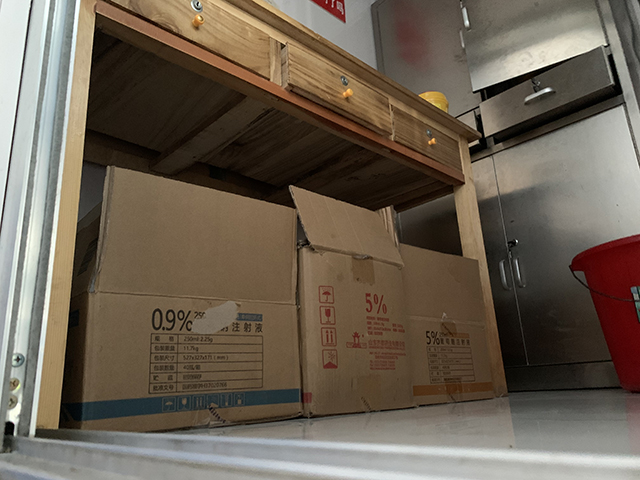cabinet: (369, 1, 640, 395)
table: (27, 1, 512, 440)
